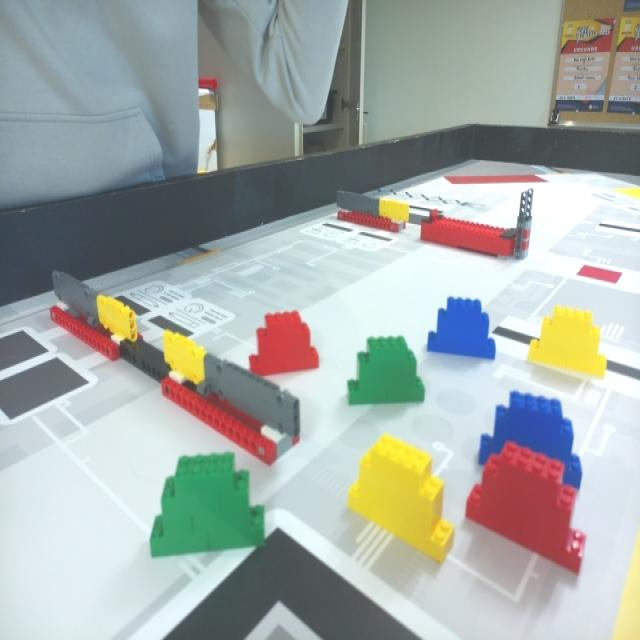blau: (482, 390, 583, 462), (427, 294, 495, 359)
gruen: (151, 450, 266, 560), (347, 335, 423, 408)
rot: (468, 446, 587, 574), (252, 309, 318, 376)
yellow: (347, 434, 453, 560), (530, 302, 608, 378)
